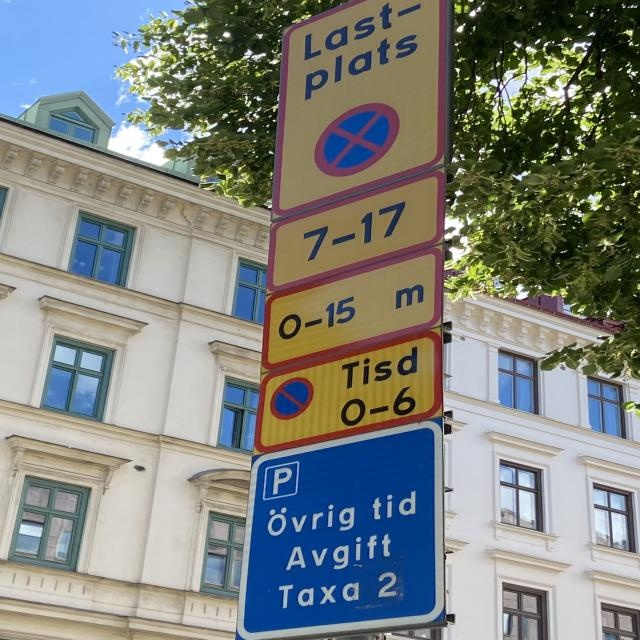lastplats: (268, 0, 450, 216)
